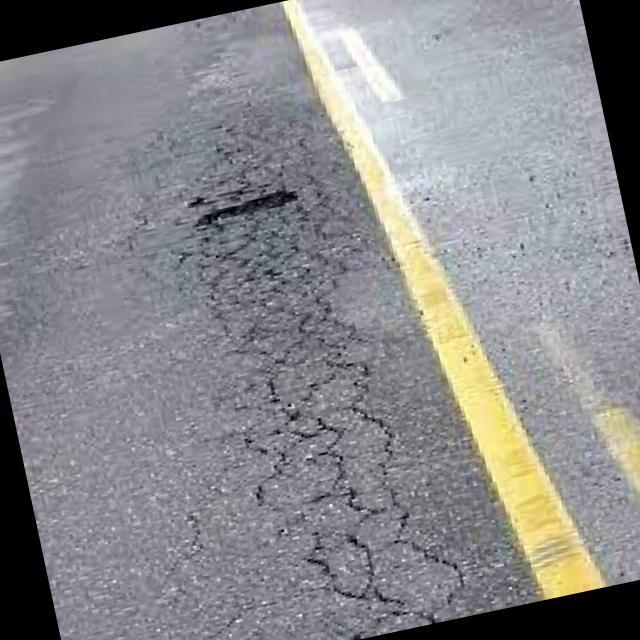Burst: (185, 184, 314, 283)
